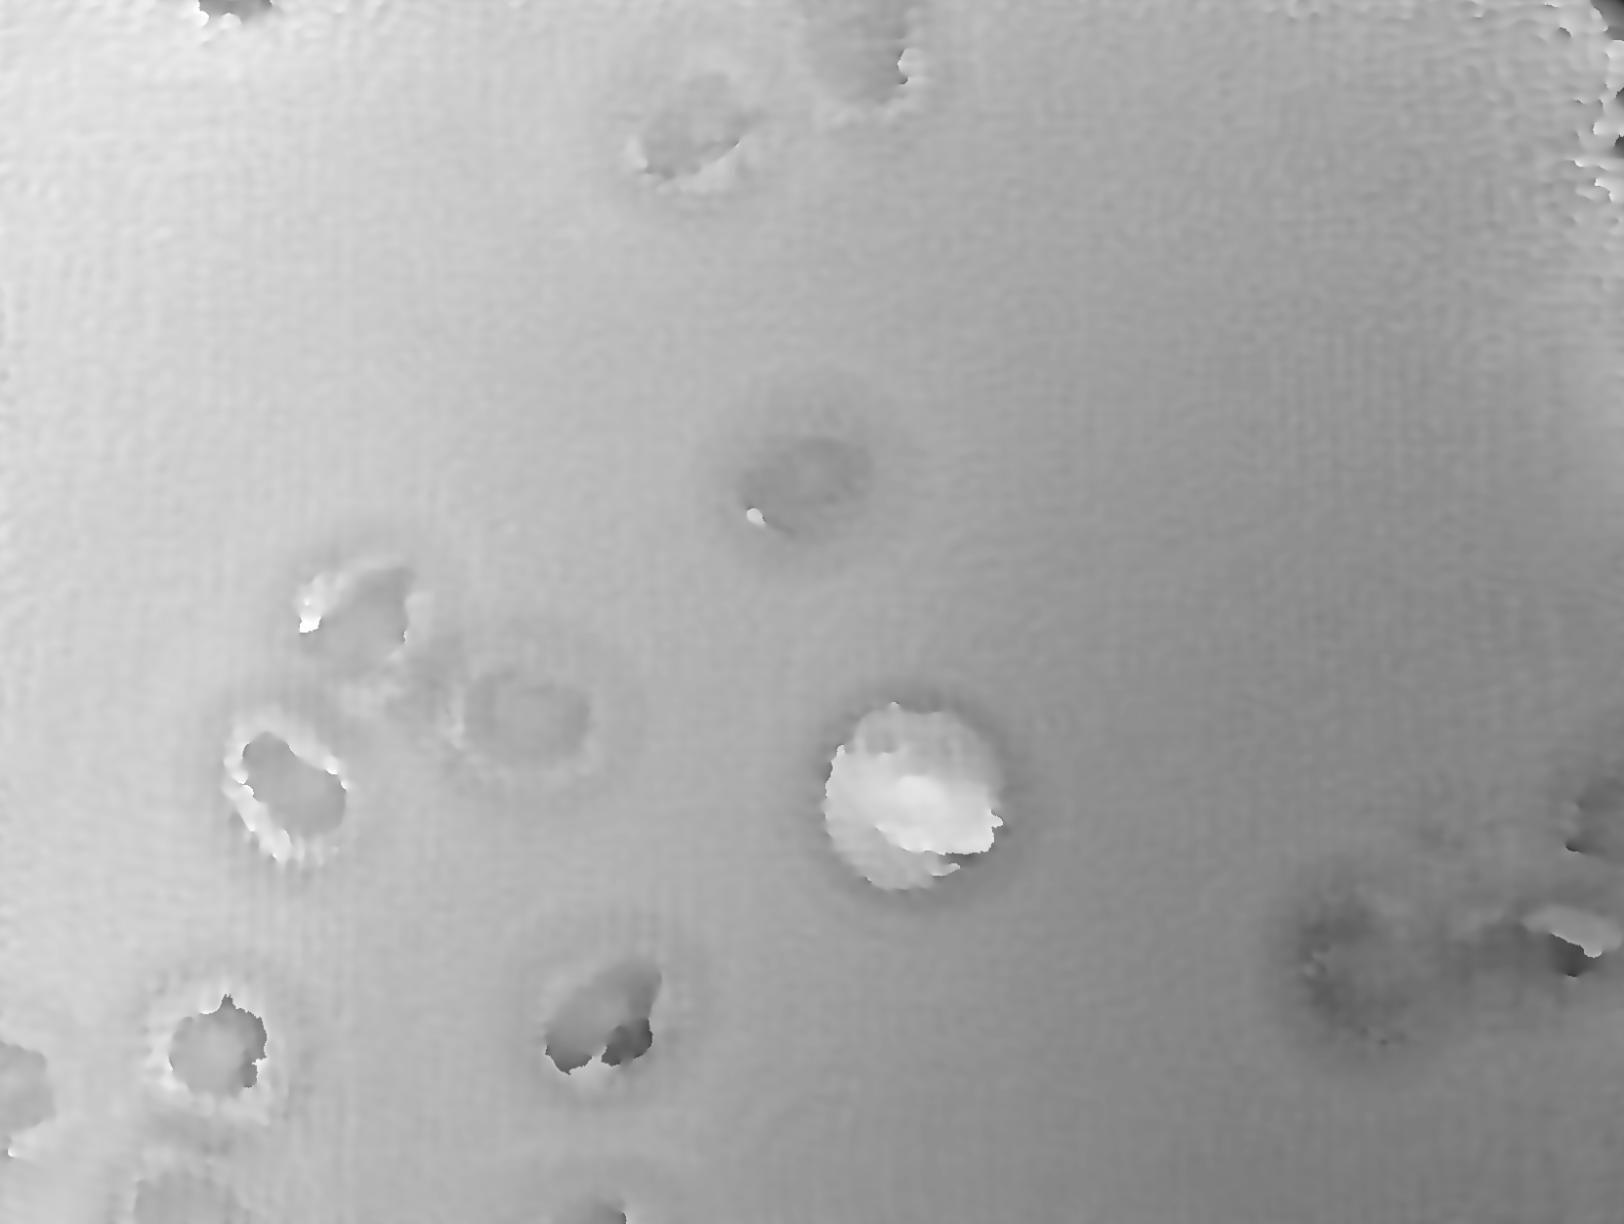cell: (1227, 842, 1490, 1113), (680, 348, 927, 615), (778, 681, 1047, 924), (166, 669, 404, 912), (582, 12, 817, 234), (507, 897, 729, 1124), (402, 615, 636, 822), (112, 939, 327, 1157), (256, 516, 472, 705)
